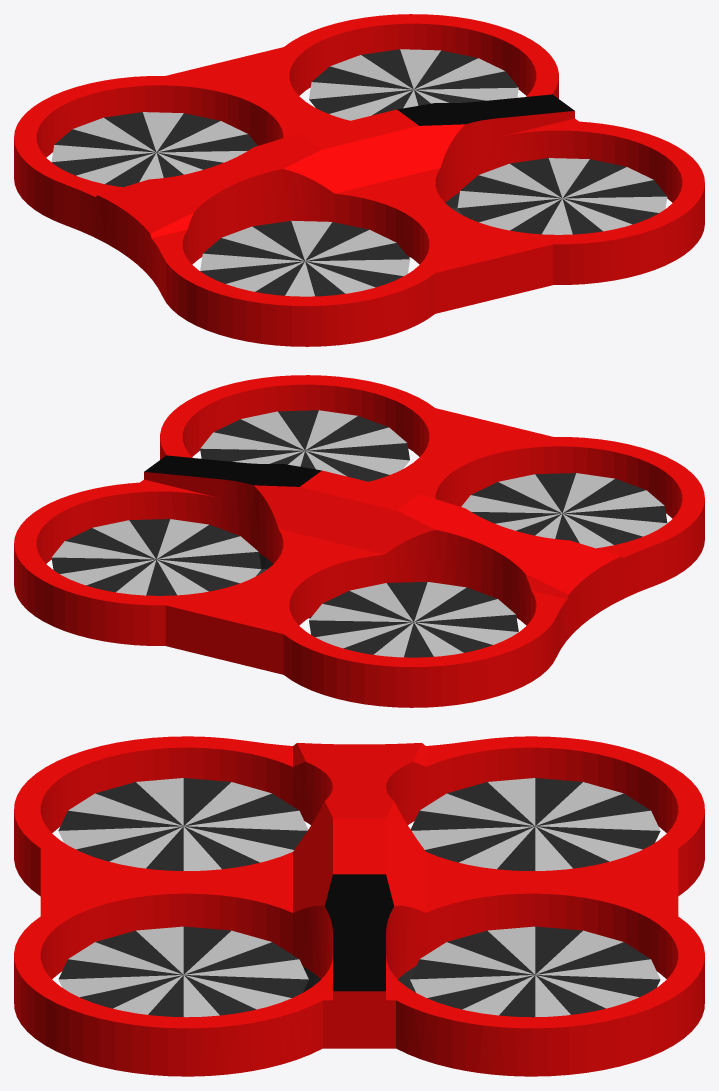
File: quadrotor_4.dae
3 views of the same model, one above another, from view 1: azimuth 30°, elevation 25°; view 2: azimuth 150°, elevation 25°; view 3: azimuth 270°, elevation 25° (orthographic). The views are drawn at different scales.
Visible parts, largest first — view 1: Cover; view 2: Cover; view 3: Cover.
Boxes of the visible parts, left/top/right/bottom form: Cover: left=14, top=14, right=704, bottom=346; Cover: left=14, top=375, right=704, bottom=707; Cover: left=14, top=736, right=704, bottom=1076.
Bounding box in the file's own units: 0.52 × 0.5199 × 0.11.
